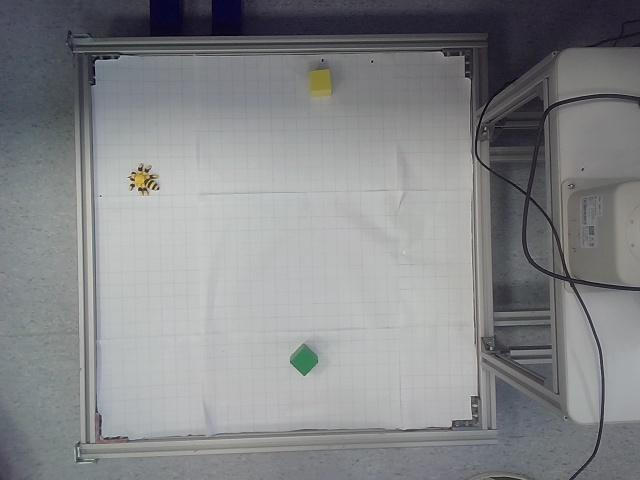frelon: (127, 163, 160, 196)
